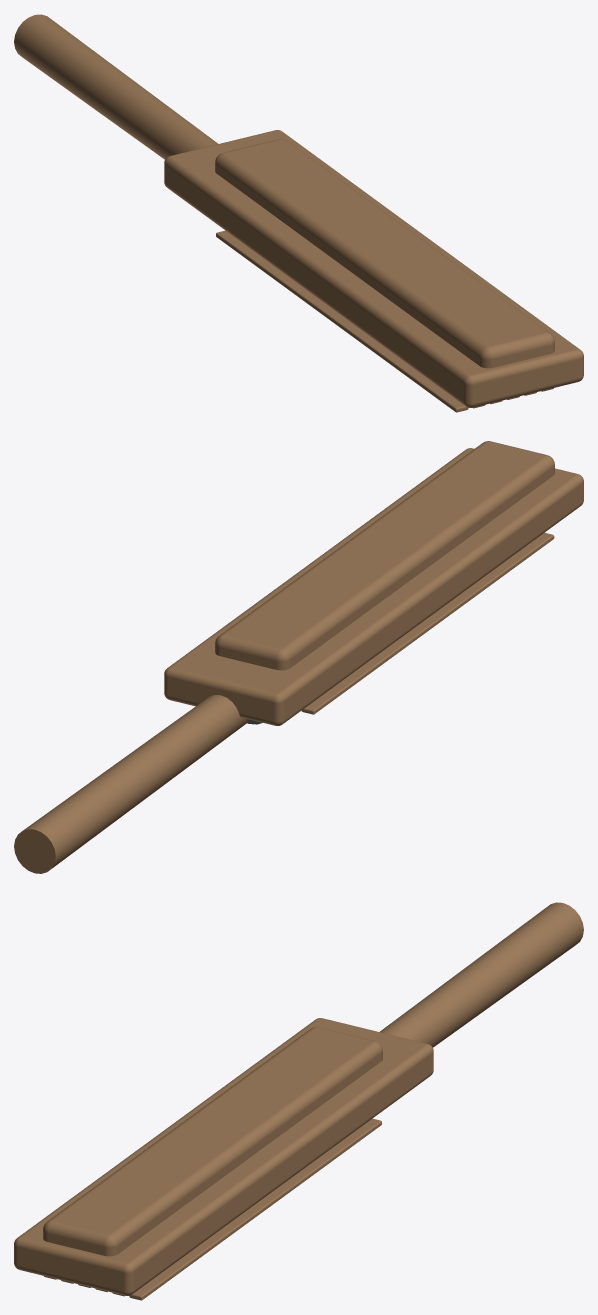
Rendered from mega-weapon-pack-cricket-bat-082efd21__33410.glb.
The picture shows the model from 3 angles, top to bottom: view 1: azimuth 30°, elevation 25°; view 2: azimuth 150°, elevation 25°; view 3: azimuth 330°, elevation 25°; orthographic projection.
Parts seen in each view (by area): view 1: cricket-bat; view 2: cricket-bat; view 3: cricket-bat.
Boxes of the visible parts, x1=… form: cricket-bat: x1=14, y1=14, x2=583, y2=412; cricket-bat: x1=14, y1=441, x2=583, y2=873; cricket-bat: x1=14, y1=902, x2=583, y2=1300.
Size of the model in its own units: 0.108 by 0.0684 by 0.774.
